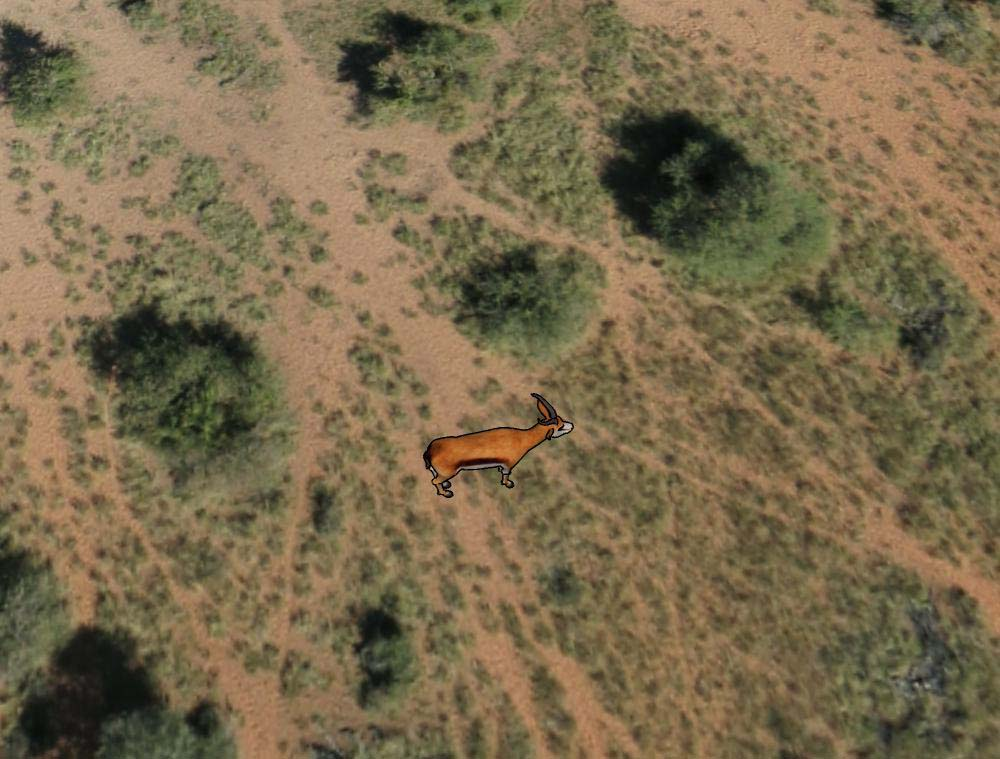springbok: (421, 394, 576, 503)
